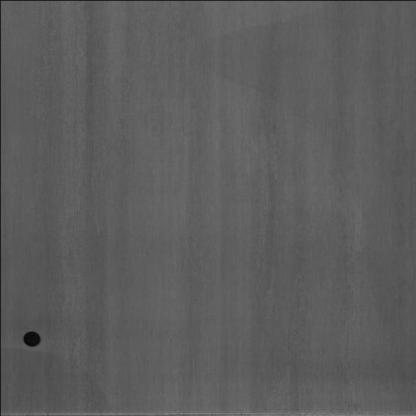punching_hole: (20, 326, 42, 353)
